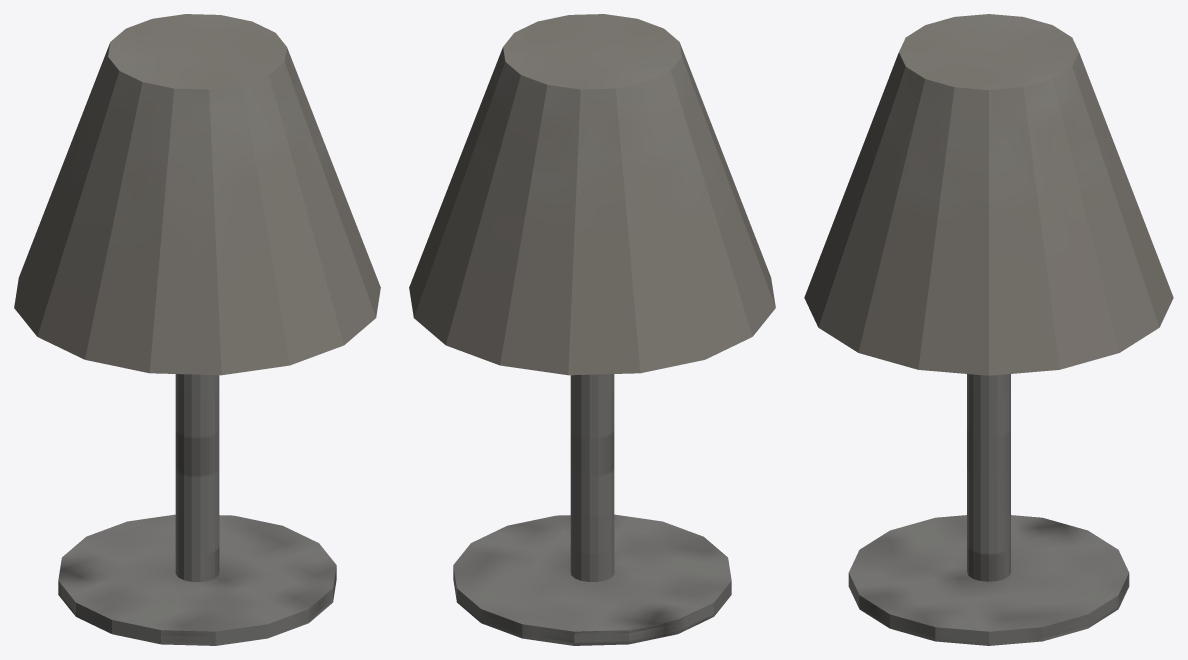
The model's file is Lamp.glb.
The picture shows the model from 3 angles, left to right: view 1: azimuth 30°, elevation 25°; view 2: azimuth 150°, elevation 25°; view 3: azimuth 270°, elevation 25°; orthographic projection.
Parts seen in each view (by area): view 1: LampTop_Baked, LampBase_Baked; view 2: LampTop_Baked, LampBase_Baked; view 3: LampTop_Baked, LampBase_Baked.
Part boxes in pixels (<box>): LampTop_Baked: <box>14,14,380,375</box>; LampBase_Baked: <box>58,374,336,645</box>; LampTop_Baked: <box>409,14,775,375</box>; LampBase_Baked: <box>453,374,731,645</box>; LampTop_Baked: <box>804,14,1173,375</box>; LampBase_Baked: <box>848,374,1129,645</box>.
Bounding box in the file's own units: 2.16 × 3.44 × 2.16.
2 materials, 2 textured.
